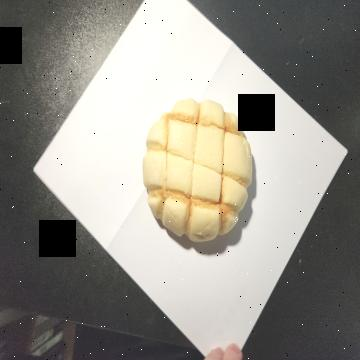melon_bread: (143, 98, 254, 248)
